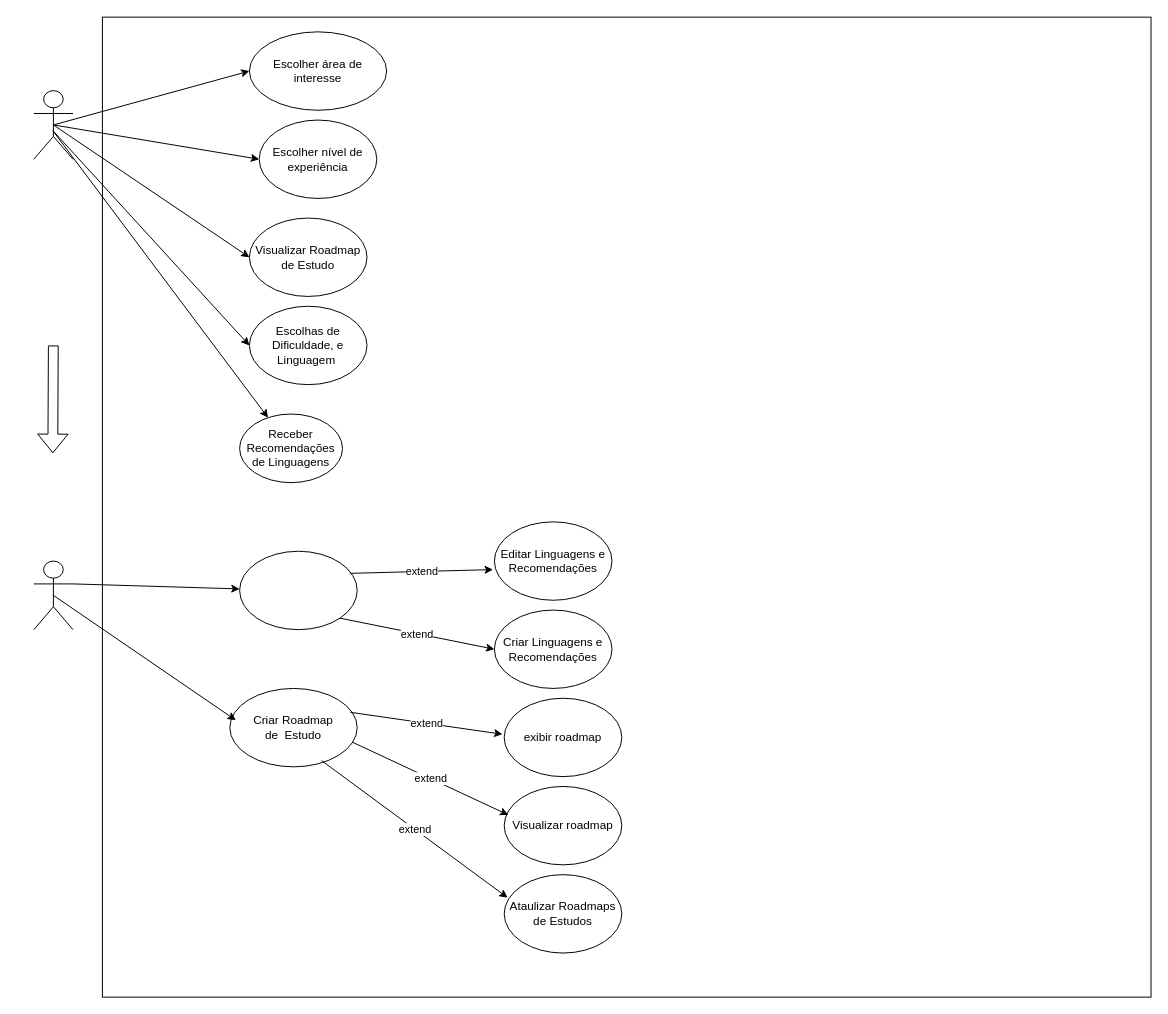
Some shapes in this 1168 by 1014 pixel diagram are drawn without their labels. Here are the shapes that lost their labels. From the top down, the box of each, then its label:
(33, 90, 73, 159): Estudante
(33, 560, 73, 630): Administrador
(239, 550, 357, 630): Gerenciar Linguagens e Recomendações
